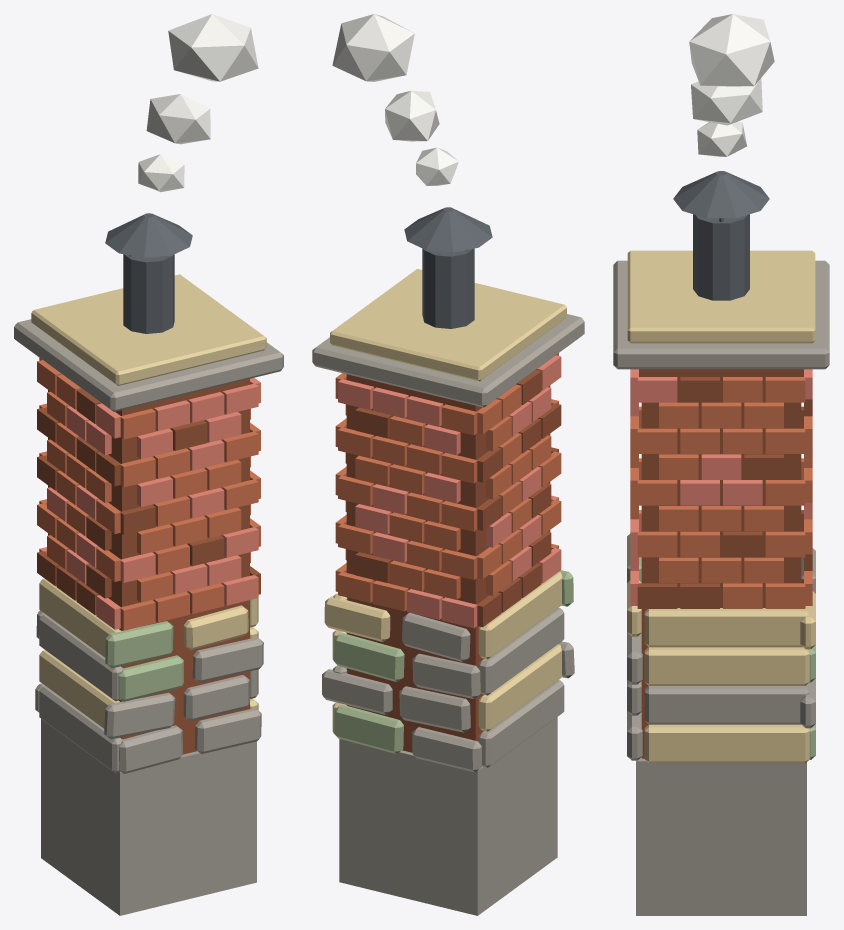
Rendered from chimney.glb.
3 renders of one model, left to right at view 1: azimuth 30°, elevation 25°; view 2: azimuth 150°, elevation 25°; view 3: azimuth 270°, elevation 25°, orthographic. The views are drawn at different scales.
Parts seen in each view (by area): view 1: Chimney; view 2: Chimney; view 3: Chimney.
Boxes of the visible parts, bbox=[...] form: Chimney: bbox=[14, 14, 283, 915]; Chimney: bbox=[312, 14, 584, 915]; Chimney: bbox=[613, 14, 829, 915].
Bounding box in the file's own units: 0.8356 × 3.5 × 0.76.
1 material, 1 textured.
